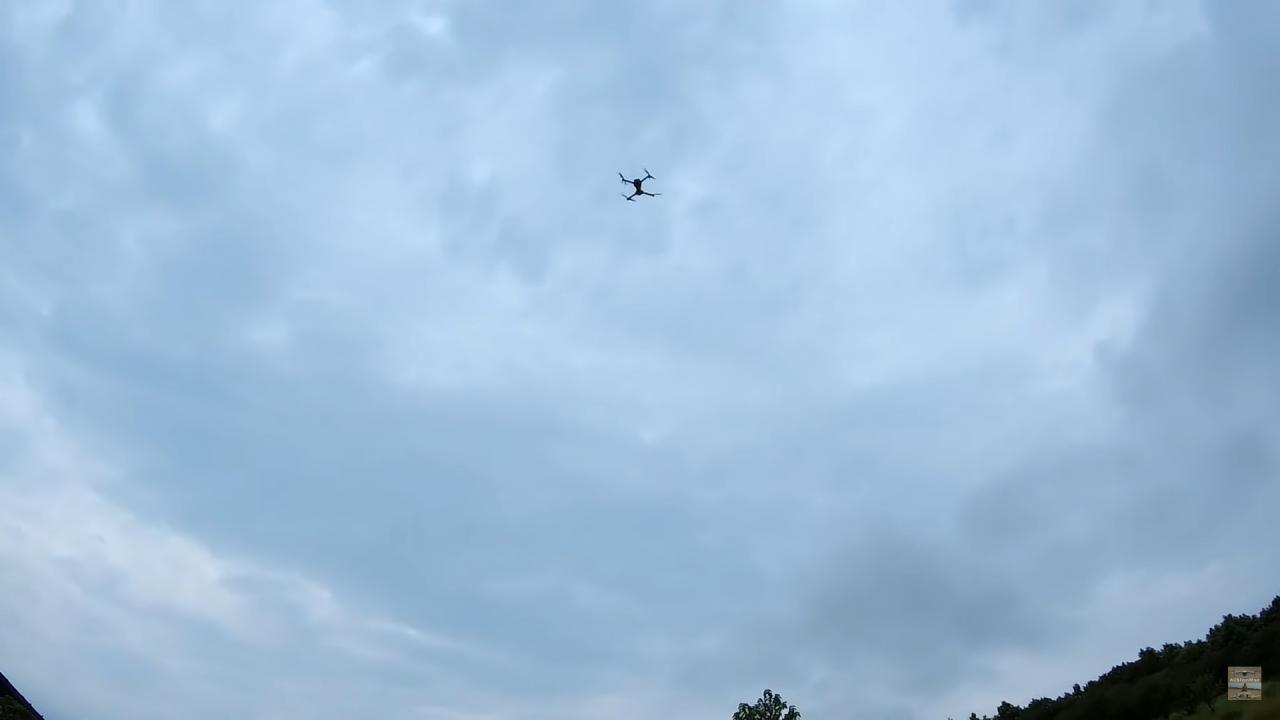Drone: (608, 159, 668, 212)
